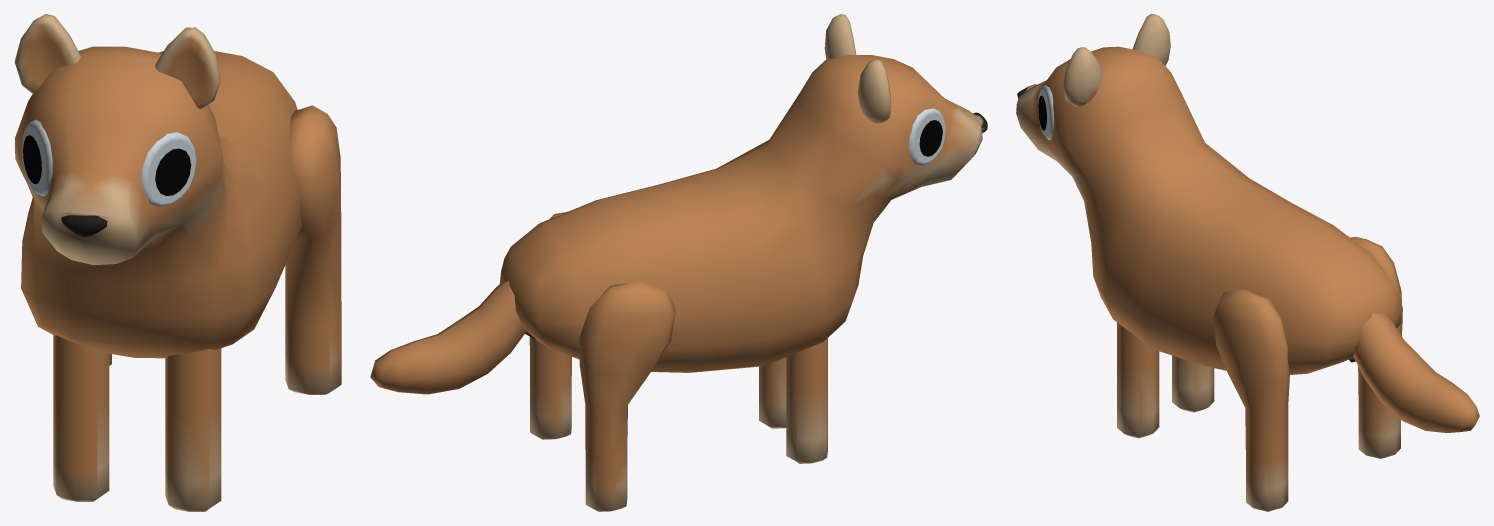
File: Dingo.glb
3 renders of one model, left to right at view 1: azimuth 30°, elevation 25°; view 2: azimuth 150°, elevation 25°; view 3: azimuth 270°, elevation 25°, orthographic. The views are drawn at different scales.
Parts seen in each view (by area): view 1: 38; view 2: 38; view 3: 38.
Boxes of the visible parts, left/top/right/bottom form: 38: left=14, top=14, right=341, bottom=511; 38: left=370, top=14, right=987, bottom=511; 38: left=1016, top=14, right=1479, bottom=511.
Bounding box in the file's own units: 0.9826 × 0.9455 × 1.08.
